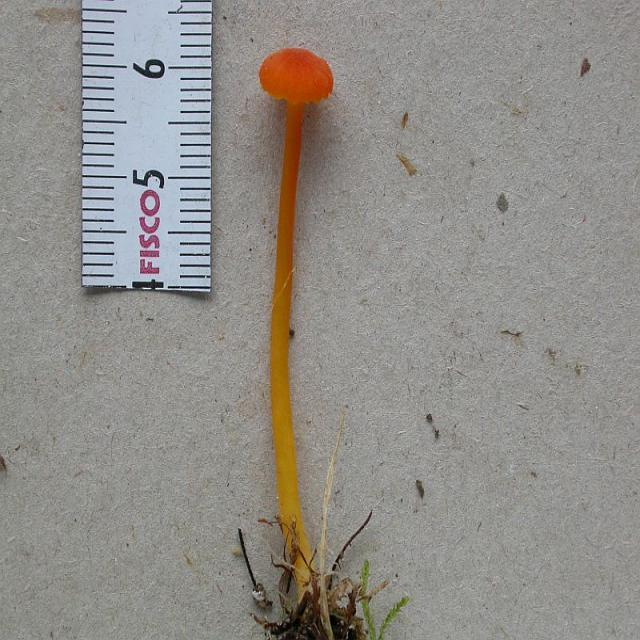Cantharellus cibarius: (260, 42, 334, 594)
